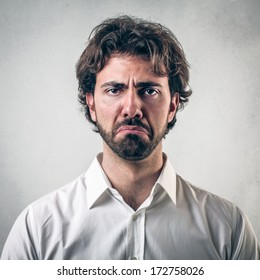NoMask: (100, 75, 164, 161)
